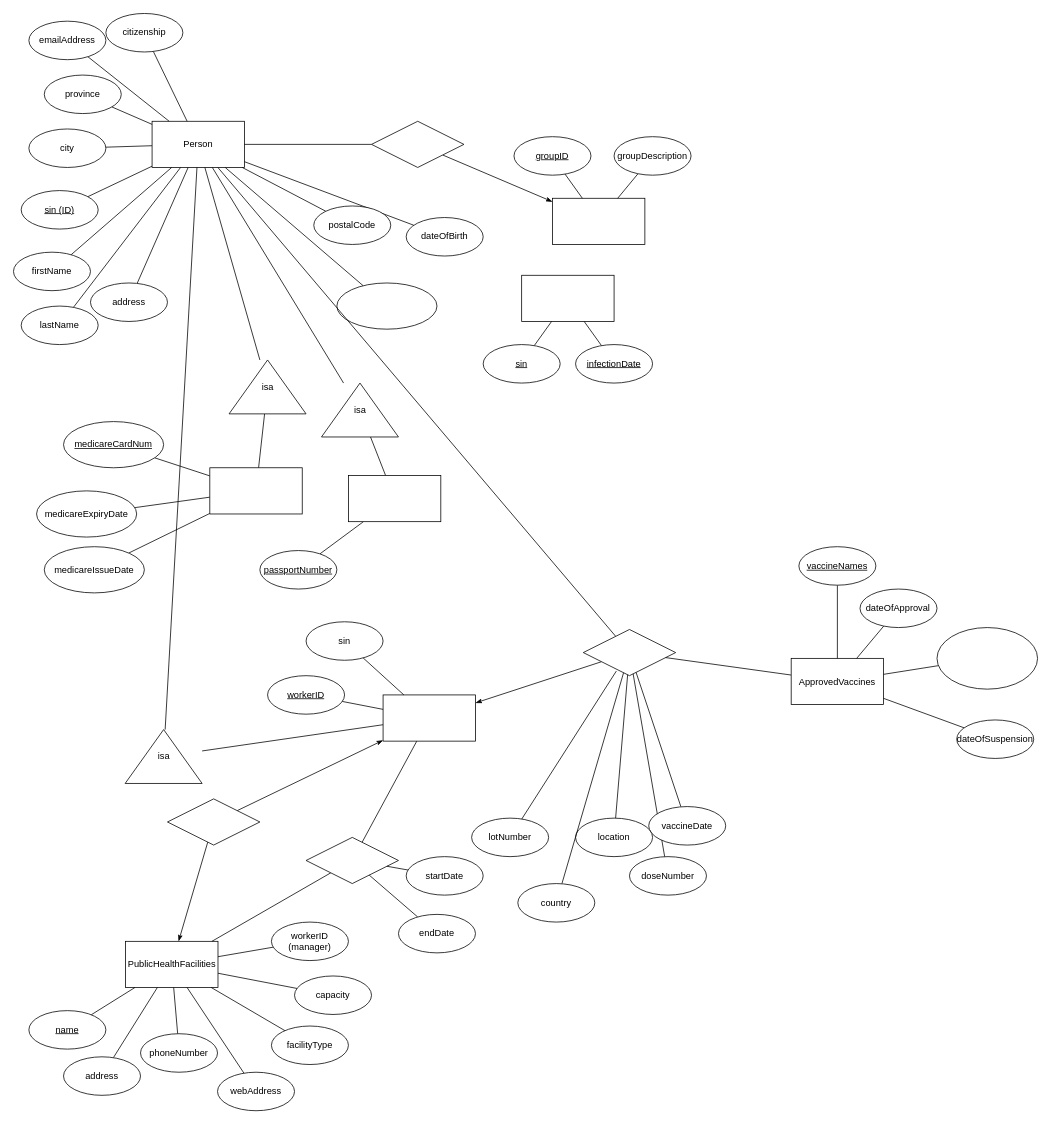
This 1051x1124 diagram has some shape labels left out. The shapes that lost their labels are listed below. From the top down, each one's centre as x and y in pixels, then its label:
At pixel 417 144: "Has A".
At pixel 598 221: "AgeGroups".
At pixel 386 305: "telephoneNumber".
At pixel 567 298: "HistoryOfInfections".
At pixel 255 490: "Registered".
At pixel 394 498: "Unregistered".
At pixel 629 652: "Vaccinations".
At pixel 987 658: "vaccinationType (SAFE/SUSPENDED)".
At pixel 428 717: "HealthWorker".
At pixel 213 821: "Manages".
At pixel 351 860: "AssignedTo".
